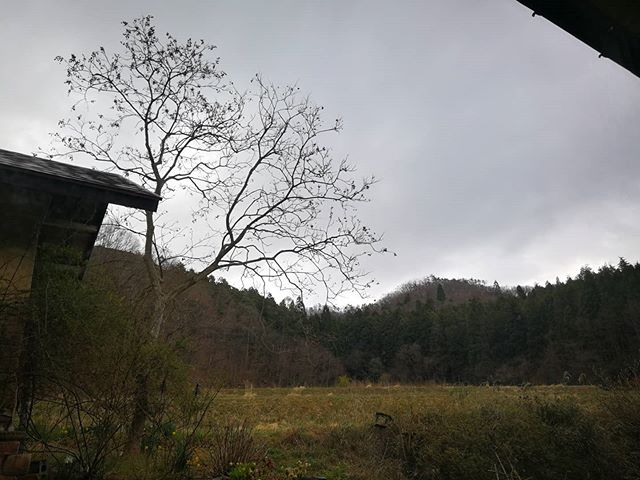sky: (2, 2, 640, 256)
tree: (100, 37, 363, 425)
vegetation: (113, 260, 636, 391)
